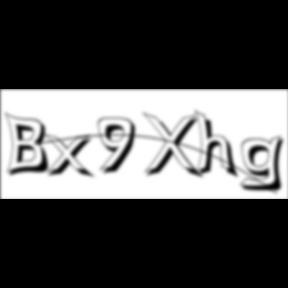9: (98, 117, 142, 177)
B: (5, 111, 55, 179)
X: (142, 112, 206, 182)
h: (194, 108, 242, 182)
x: (44, 132, 98, 181)
